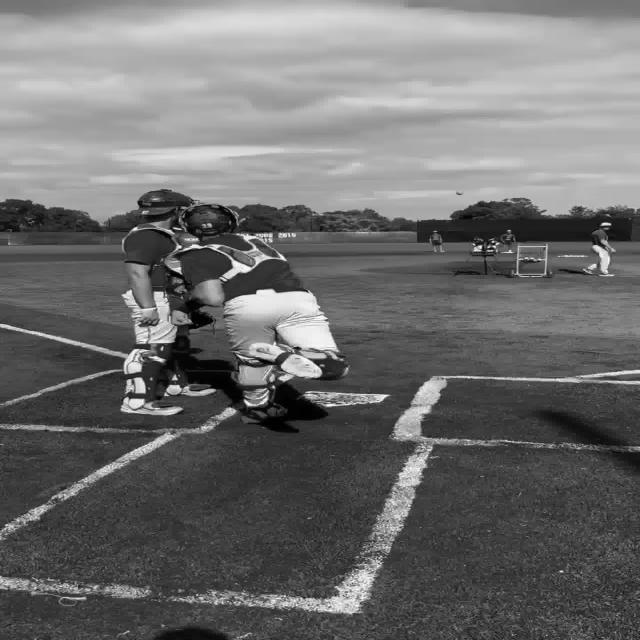base: (298, 389, 391, 408)
baseball: (455, 191, 463, 195)
shoe: (248, 342, 322, 379), (119, 397, 183, 416), (239, 401, 287, 424), (164, 382, 216, 397), (581, 267, 597, 274), (598, 273, 614, 276)
